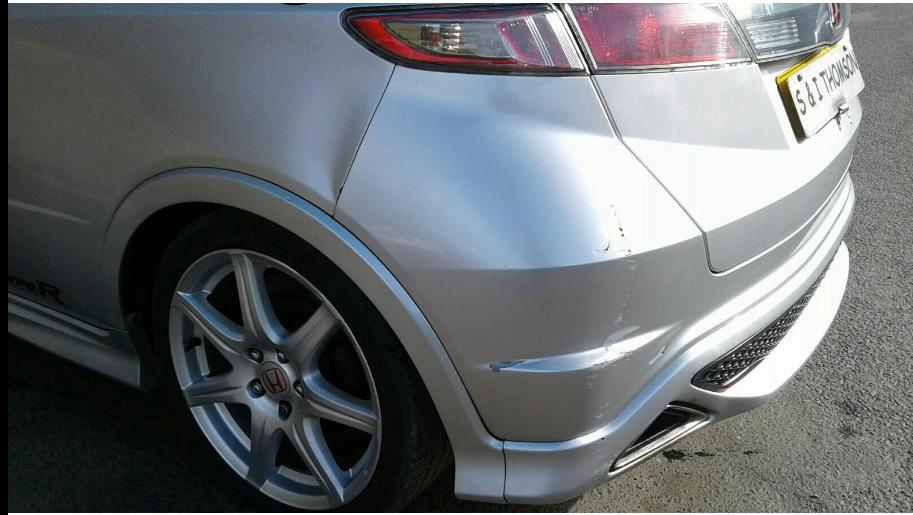Back-bumper: (104, 65, 857, 502)
Back-wheel: (150, 214, 449, 514)
License-plate: (783, 33, 867, 138)
Quarter-panel: (5, 5, 392, 326)
Rocker-panel: (4, 292, 143, 386)
Tail-light: (346, 6, 589, 75), (560, 2, 753, 75)
Trunk: (562, 4, 864, 271)
